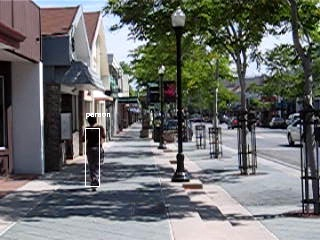person: (81, 115, 106, 193), (80, 115, 105, 193), (82, 115, 107, 193), (81, 114, 106, 192), (81, 116, 106, 194)
target_negative: (21, 80, 203, 207), (53, 2, 159, 72), (179, 215, 305, 232), (188, 91, 279, 102), (247, 234, 265, 238), (116, 199, 123, 203)
